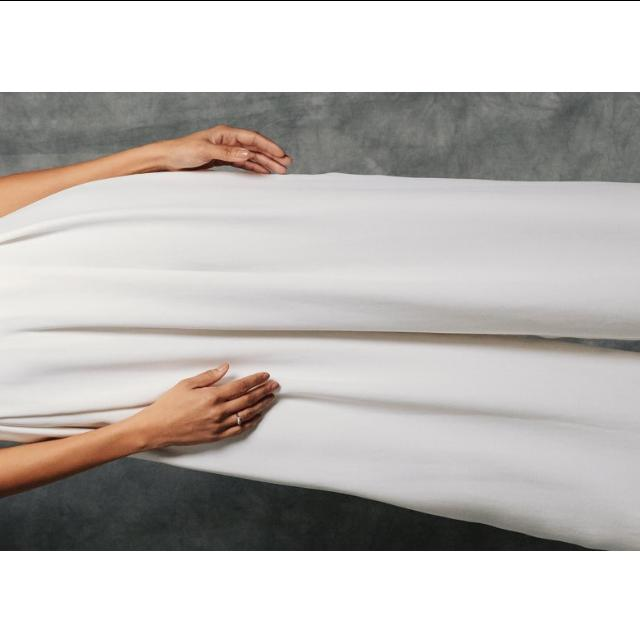silk: (0, 148, 640, 550)
